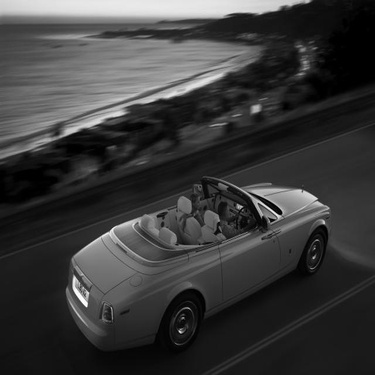car: (56, 162, 335, 352)
